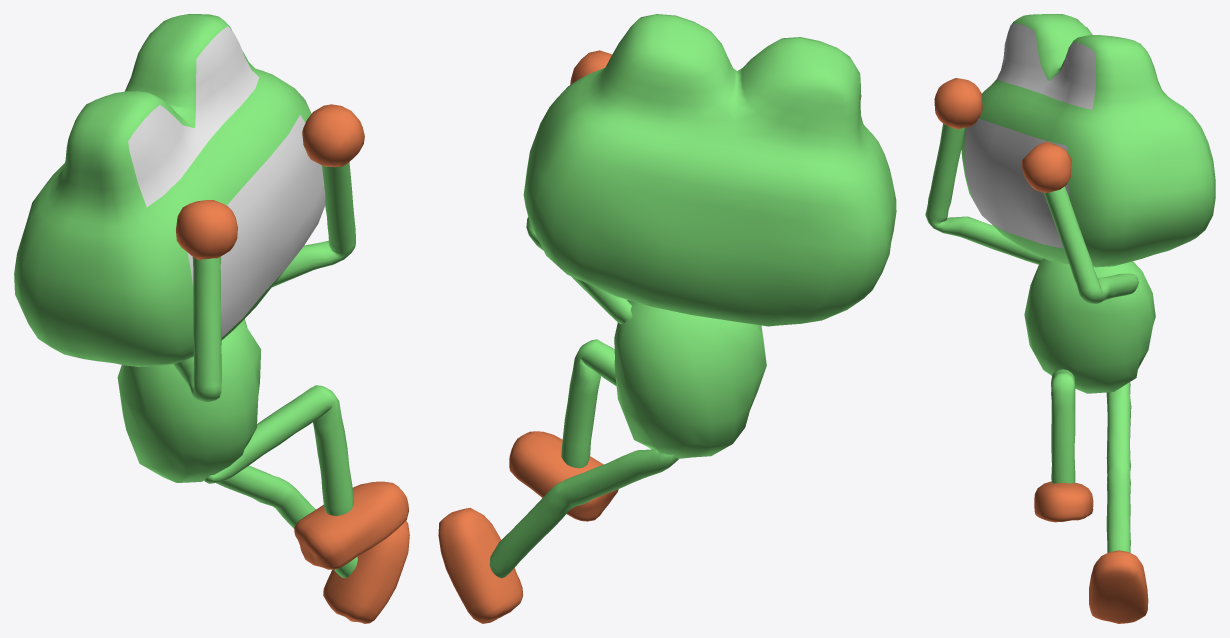
File: hands-on-face-g.fbx
The picture shows the model from 3 angles, left to right: view 1: azimuth 30°, elevation 25°; view 2: azimuth 150°, elevation 25°; view 3: azimuth 270°, elevation 25°; orthographic projection. The views are drawn at different scales.
Parts seen in each view (by area): view 1: head.002, zahando.002, face.001; view 2: head.002, zahando.002; view 3: zahando.002, head.002, face.001.
Boxes of the visible parts, x1=… form: head.002: x1=14, y1=14, x2=322, y2=366; zahando.002: x1=117, y1=104, x2=409, y2=623; face.001: x1=128, y1=26, x2=325, y2=337; head.002: x1=523, y1=14, x2=896, y2=326; zahando.002: x1=438, y1=50, x2=861, y2=623; zahando.002: x1=925, y1=78, x2=1155, y2=623; head.002: x1=961, y1=14, x2=1215, y2=267; face.001: x1=964, y1=23, x2=1095, y2=247.
Size of the model in its own units: 477 by 708 by 357.
